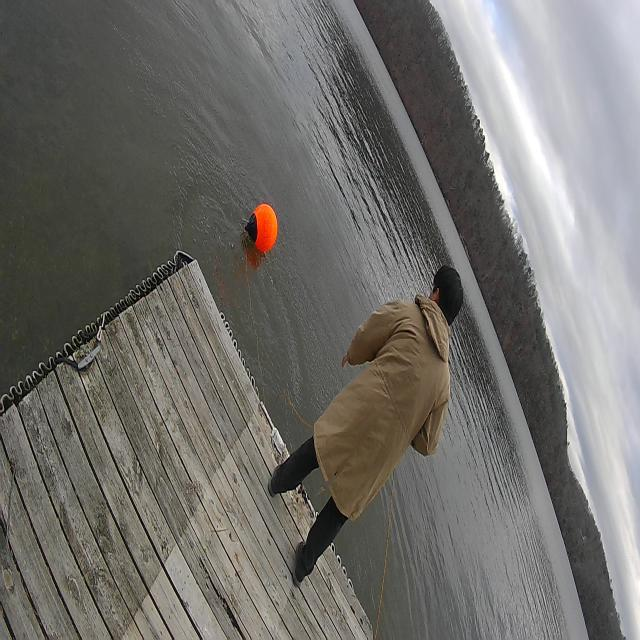Buoy: (243, 197, 280, 257)
